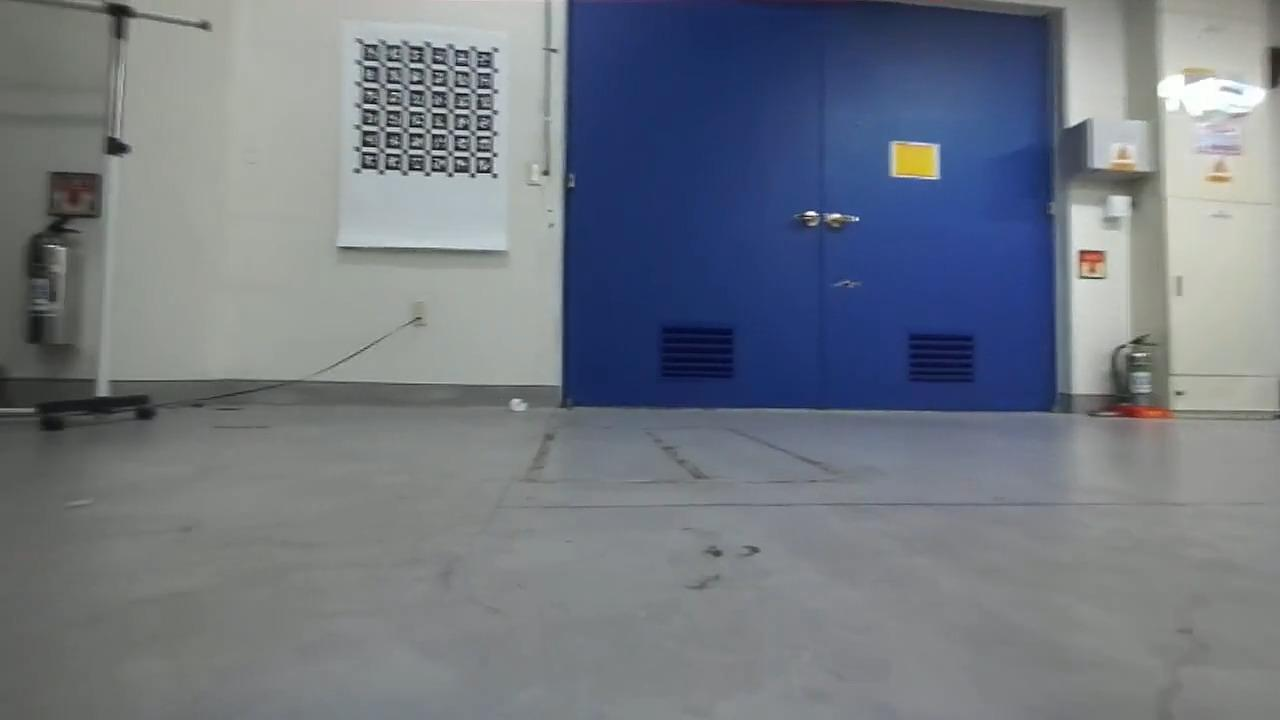crazyflie: (822, 272, 868, 296)
